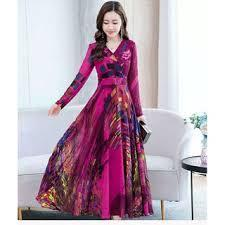dress: (33, 37, 156, 219)
